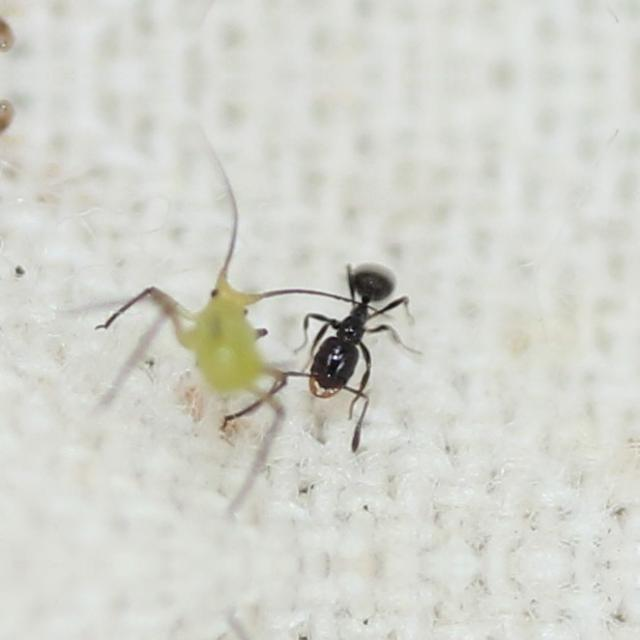Temnothorax: (273, 237, 415, 448)
